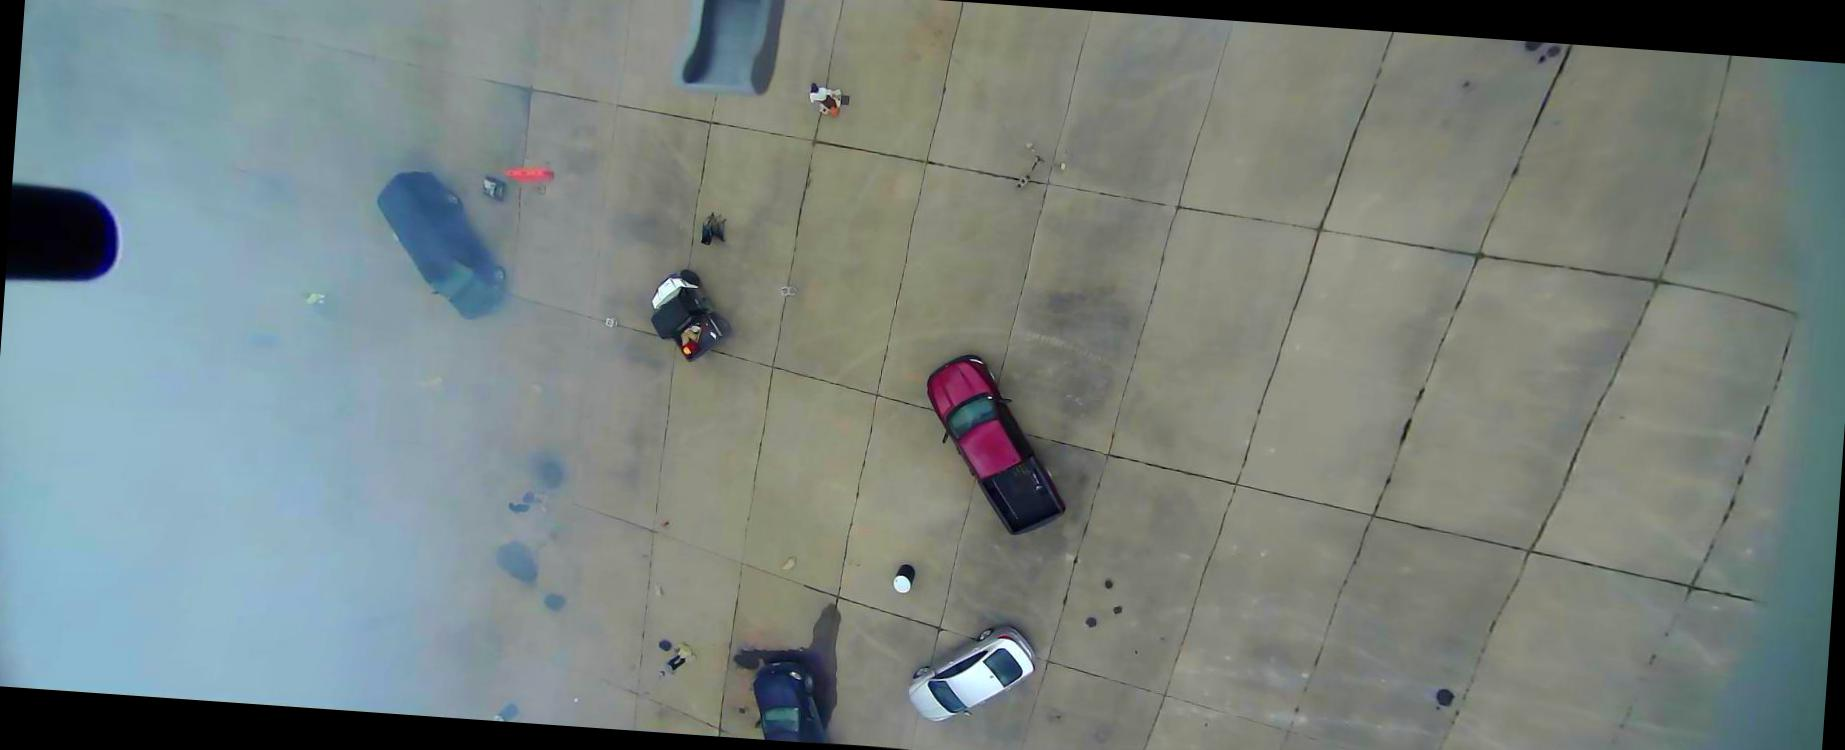vehicle: (915, 352, 1077, 540), (367, 166, 512, 324), (902, 617, 1040, 730), (646, 266, 734, 366), (747, 658, 833, 743)
